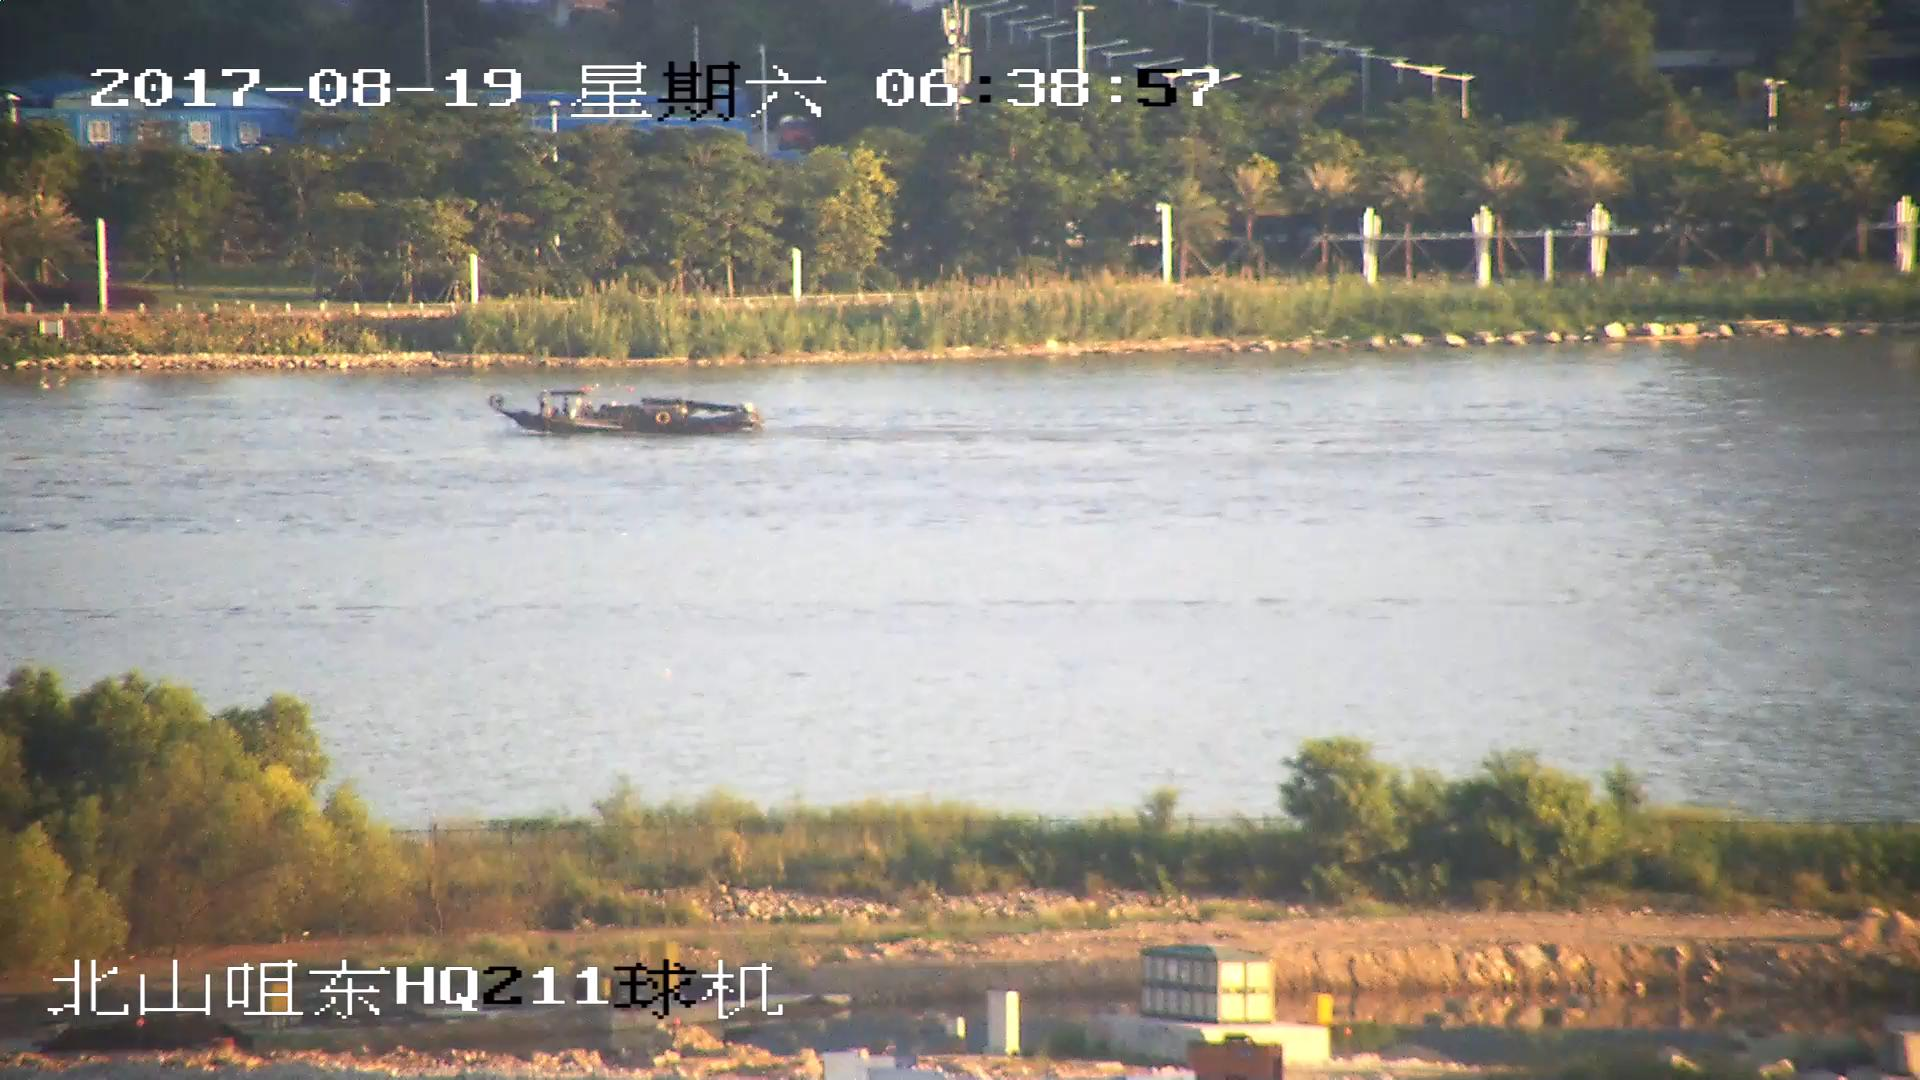fishing boat: (494, 387, 763, 441)
